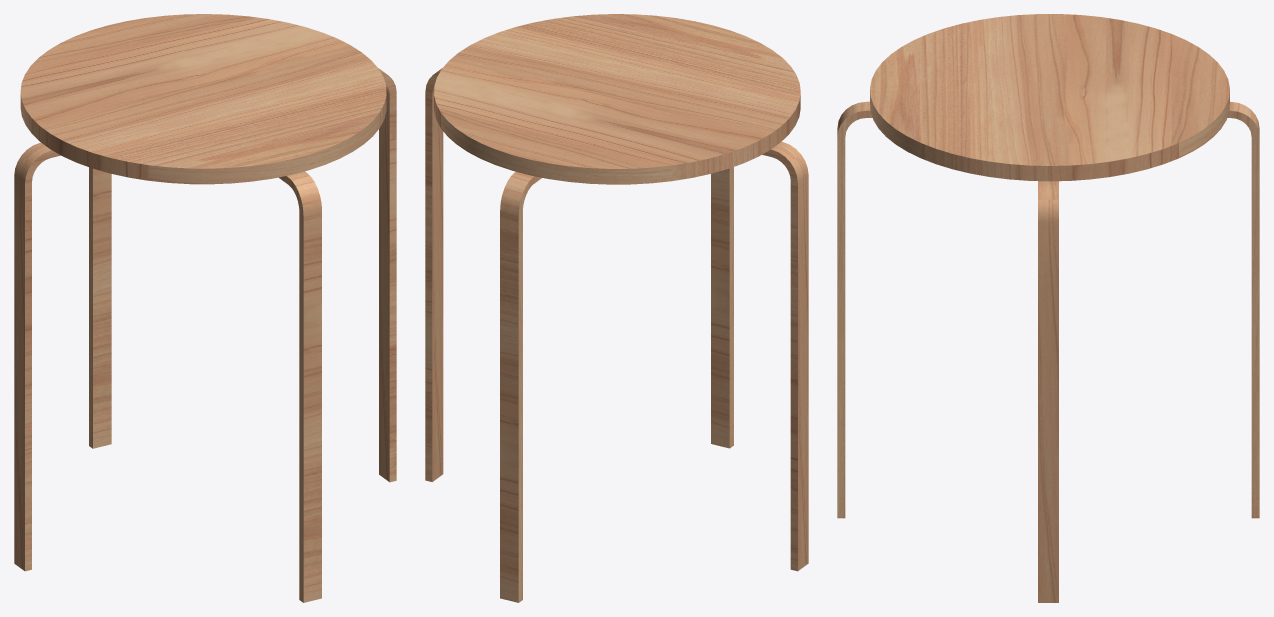
The model's file is IKEA-Frosta_Stool-3D.obj.
3 renders of one model, left to right at view 1: azimuth 30°, elevation 25°; view 2: azimuth 150°, elevation 25°; view 3: azimuth 270°, elevation 25°, orthographic.
Parts seen in each view (by area): view 1: Loft02; view 2: Loft02; view 3: Loft02.
Boxes of the visible parts, bbox=[...] form: Loft02: bbox=[14, 14, 396, 602]; Loft02: bbox=[425, 14, 808, 602]; Loft02: bbox=[837, 14, 1259, 602].
Bounding box in the file's own units: 407 × 451 × 407.
Materials: 1 (1 with a texture image).
